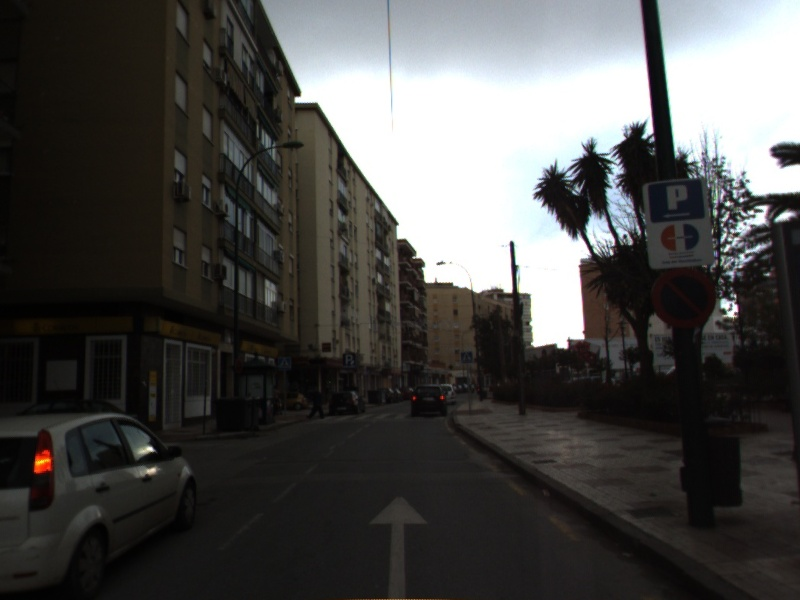STRAIGHT: (366, 494, 431, 600)
